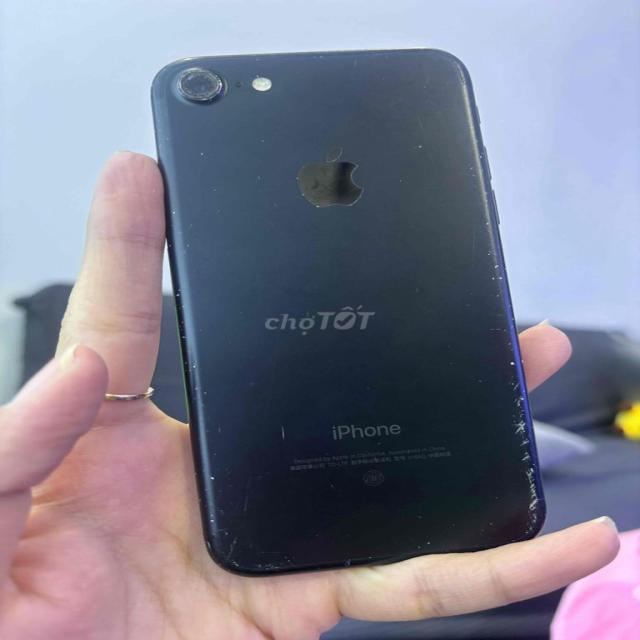gen_7_8: (144, 41, 566, 582)
scratch: (190, 452, 299, 575), (489, 321, 546, 541), (249, 48, 457, 83), (162, 199, 200, 345), (284, 155, 364, 210), (180, 354, 222, 448), (472, 208, 507, 300), (168, 58, 222, 107), (246, 123, 276, 205), (152, 108, 176, 156), (400, 134, 434, 154), (342, 548, 378, 566), (462, 155, 484, 179), (410, 533, 435, 550), (188, 140, 210, 159), (278, 422, 288, 440)
